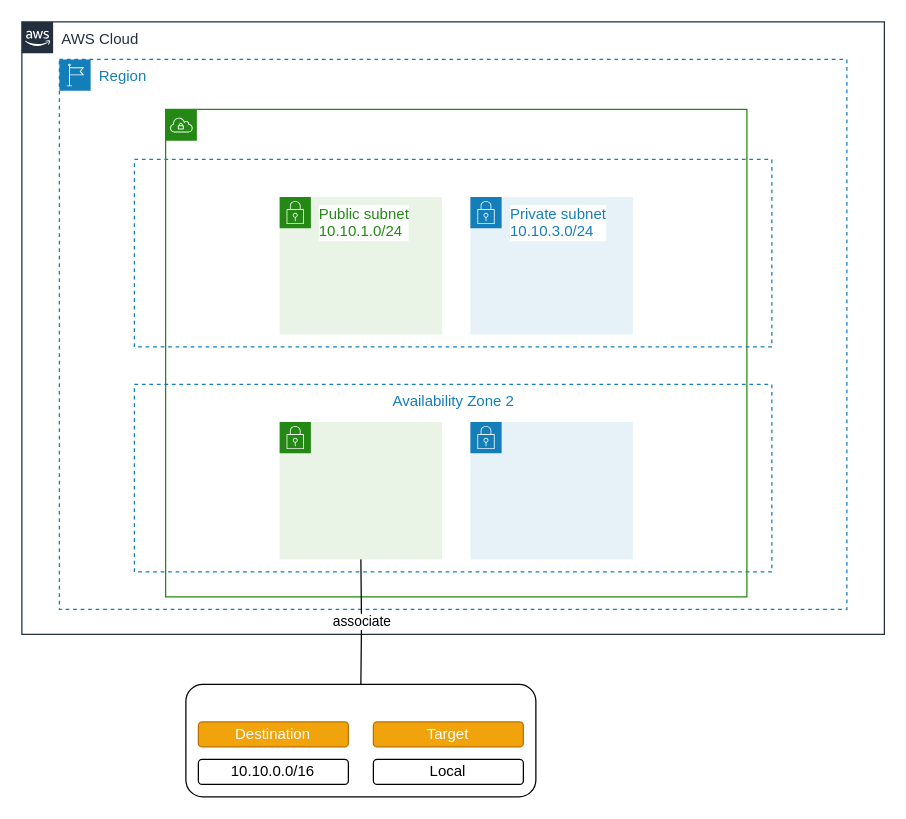
Some shapes in this 906 by 819 pixel diagram are drawn without their labels. Here are the shapes that lost their labels. From the top down, the box of each, then its label:
(133, 158, 772, 347): Availability Zone 1
(164, 108, 747, 597): VPC : 10.10.0.0/16
(278, 421, 442, 559): Public subnet 10.10.2.0/24
(469, 421, 633, 559): Private subnet 10.10.4.0/24
(185, 683, 536, 797): Route table
